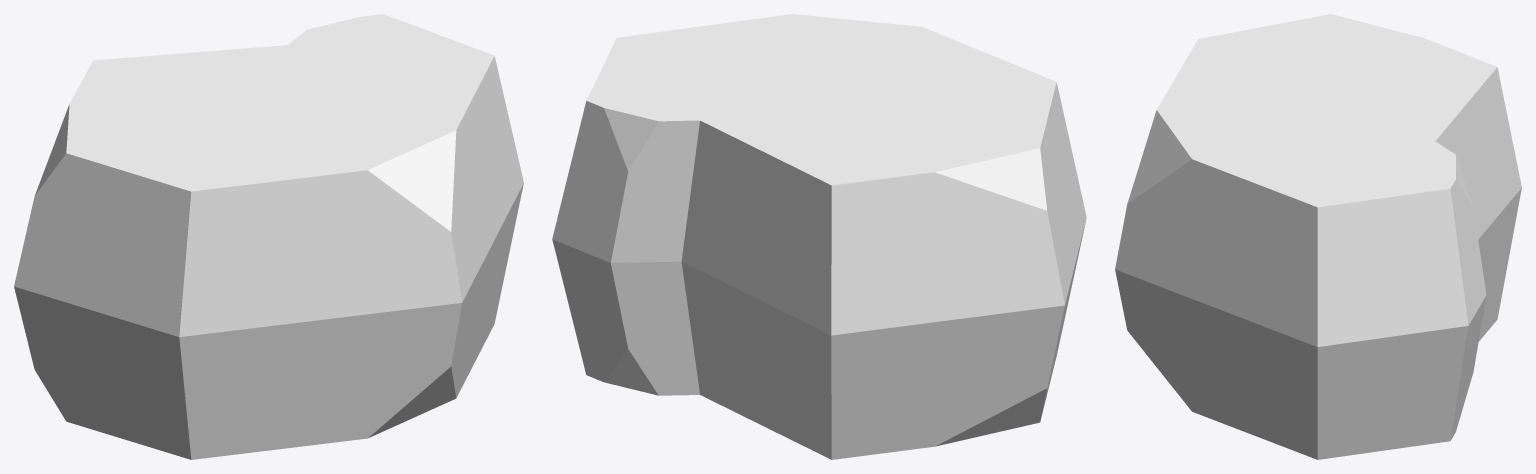
File: asteroid5.glb
3 views of the same model, side by side, from view 1: azimuth 30°, elevation 25°; view 2: azimuth 150°, elevation 25°; view 3: azimuth 270°, elevation 25° (orthographic). The views are drawn at different scales.
Parts seen in each view (by area): view 1: mergedBlocks(Clone); view 2: mergedBlocks(Clone); view 3: mergedBlocks(Clone).
Part boxes in pixels (box(x1,y1,x2,y2)): mergedBlocks(Clone): box(14, 14, 523, 459); mergedBlocks(Clone): box(552, 14, 1086, 459); mergedBlocks(Clone): box(1115, 14, 1521, 459).
Bounding box in the file's own units: 0.4704 × 0.2468 × 0.3603.
1 material, 1 textured.
